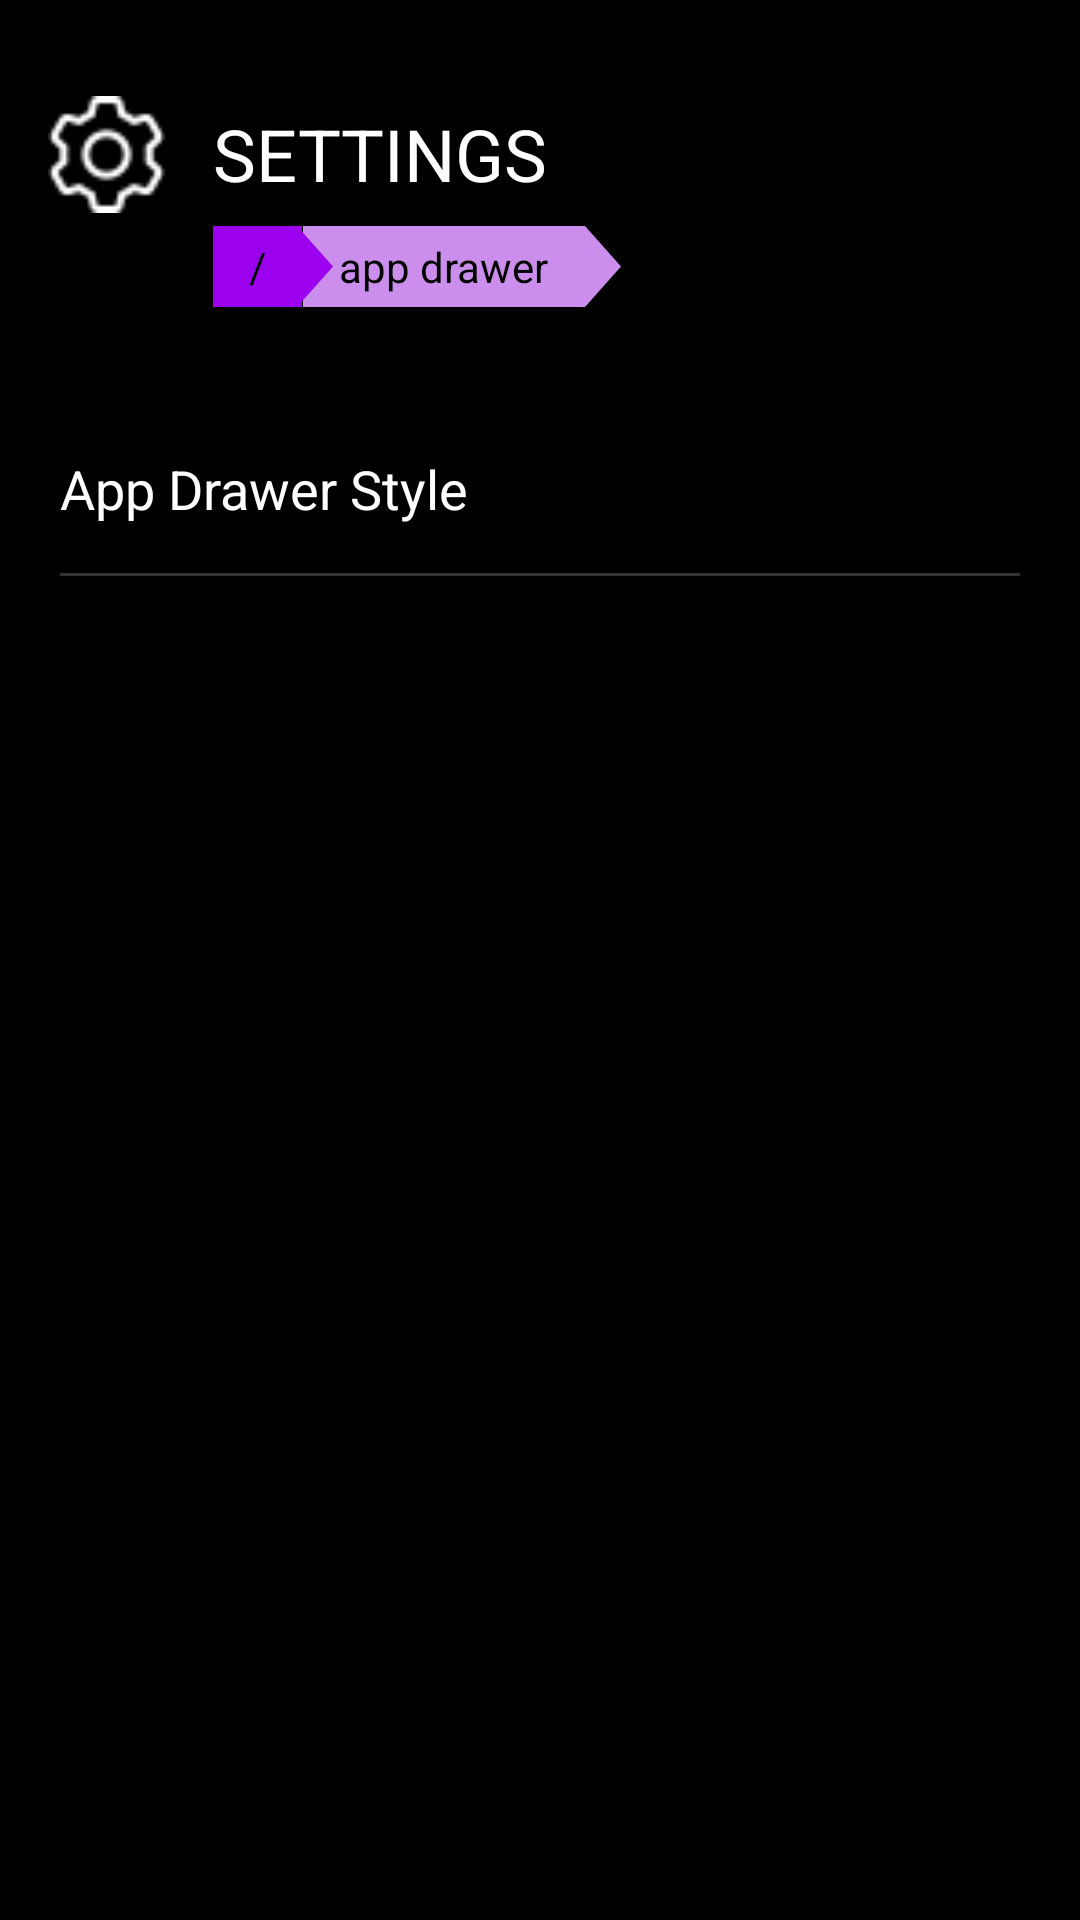

Screen size 1080 x 1920. Icon name, then its box in pixels as [x1, y1, x2, y2]:
cogwheel: [48, 96, 165, 213]
